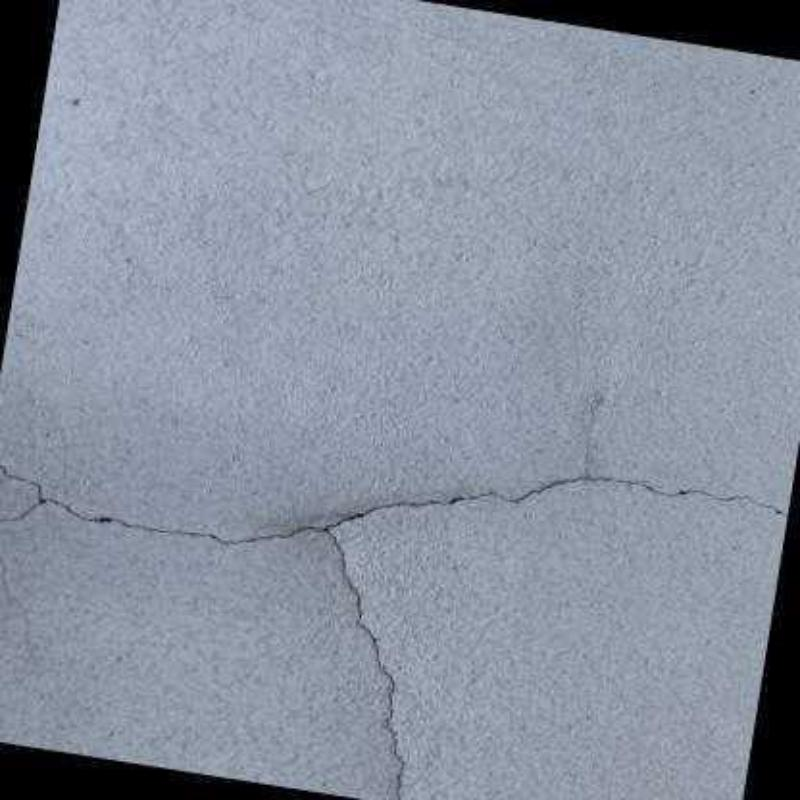pothole: (0, 461, 788, 800)
